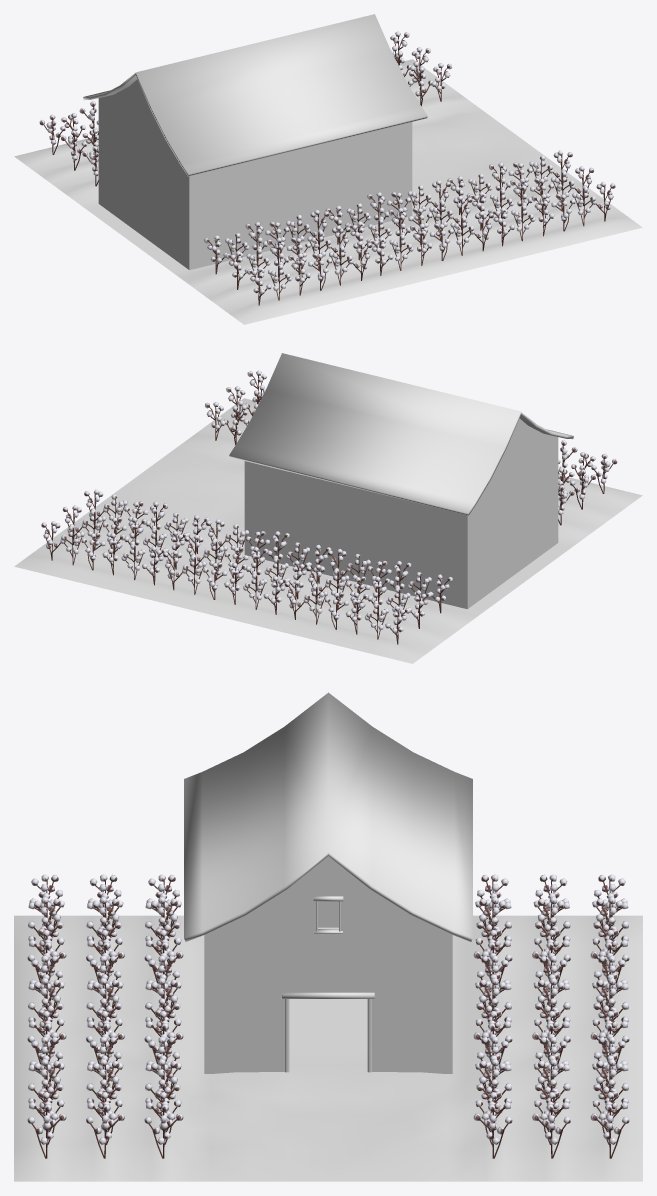
Rendered from cottonField.fbx.
3 renders of one model, top to bottom at view 1: azimuth 30°, elevation 25°; view 2: azimuth 150°, elevation 25°; view 3: azimuth 270°, elevation 25°, orthographic. The views are drawn at different scales.
Visible parts, largest first — view 1: Plane, Plane.003, cottons; view 2: Plane, Plane.003, cottons; view 3: Plane.003, Plane, cottons.
Part boxes in pixels (box(x1,y1,x2,y2)): Plane: box(83, 14, 427, 270); Plane.003: box(14, 59, 642, 324); cottons: box(39, 31, 615, 305); Plane: box(229, 353, 573, 609); Plane.003: box(14, 398, 642, 663); cottons: box(41, 370, 617, 644); Plane.003: box(14, 915, 642, 1181); Plane: box(184, 692, 472, 1073); cottons: box(27, 874, 629, 1158).
Size of the model in its own units: 836 by 342 by 836.
